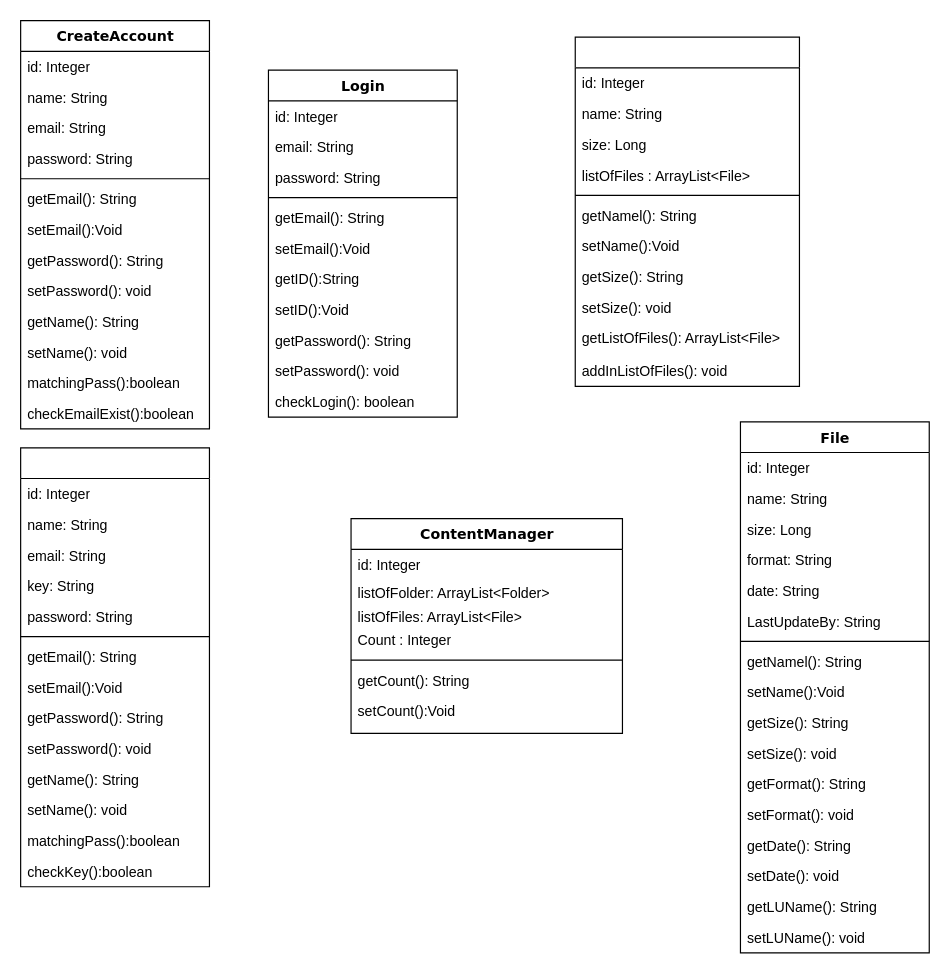
Some shapes in this 950 by 977 pixel diagram are drawn without their labels. Here are the shapes that lost their labels. From the top down, the box of each, then its label:
(574, 36, 799, 386): Folder
(19, 447, 209, 887): AccountRecovery
